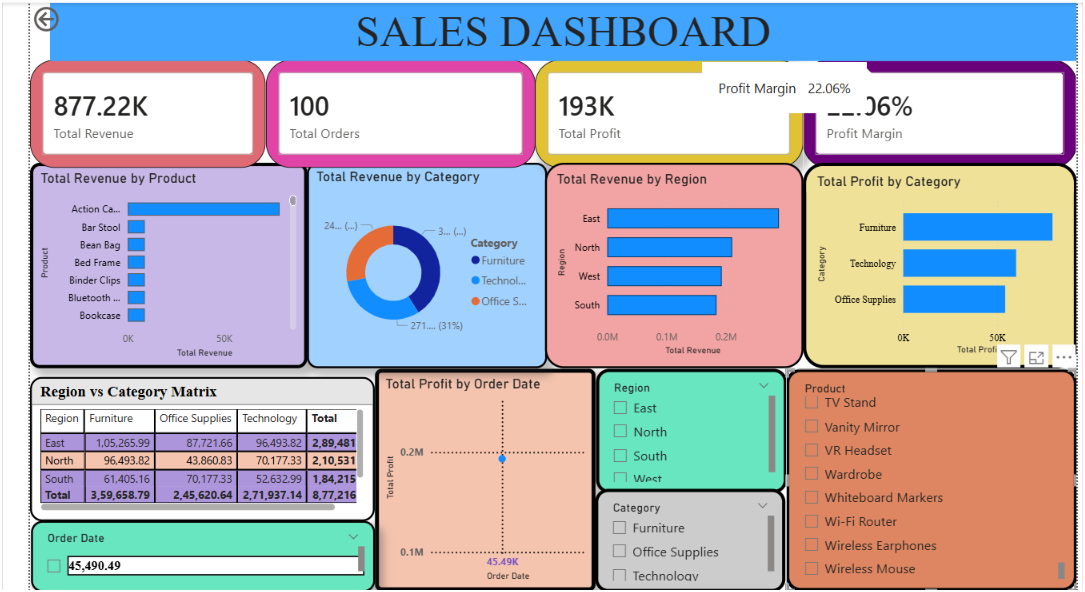

The dashboard page shown, as its layout file describes it:
{"tool":"powerbi","page":{"name":"Syntecxhub_Sales_Dashboard","canvas":[1280,720],"ordinal":0},"visuals":[{"type":"lineChart","fields":{"Category":["Sheet1.Order Date"],"Y":["Sheet1.Total Profit"]},"box":[421.8,447.4,269.5,272.2],"z":0},{"type":"clusteredBarChart","fields":{"Category":["Sheet1.Product"],"Y":["Sheet1.Total Revenue"]},"box":[0,196.2,338.9,251.1],"z":1000},{"type":"donutChart","fields":{"Category":["Sheet1.Category"],"Y":["Sheet1.Total Revenue"]},"box":[338.9,196.2,293.7,251.1],"z":2000},{"type":"cardVisual","fields":{"Data":["Sheet1.Total Revenue"]},"box":[0,70,288.2,131.7],"z":3000},{"type":"cardVisual","fields":{"Data":["Sheet1.Total Orders"]},"box":[288.2,70,329.3,131.7],"z":4000},{"type":"cardVisual","fields":{"Data":["Sheet1.Total Profit"]},"box":[617.5,70,328,131.7],"z":5000},{"type":"cardVisual","fields":{"Data":["Sheet1.Profit Margin"]},"box":[945.5,70,334.8,131.7],"z":6000},{"type":"textbox","box":[24.7,0,1255.6,71.4],"z":7000},{"type":"pivotTable","title":"Region vs Category Matrix","fields":{"Rows":["Sheet1.Region"],"Columns":["Sheet1.Category"],"Values":["Sheet1.Total Revenue"]},"box":[0,456.9,421.8,176.5],"z":8000},{"type":"slicer","fields":{"Values":["Sheet1.Order Date"]},"box":[1.2,633.4,420.7,86.8],"z":9000},{"type":"actionButton","box":[0,0,100,40],"z":10000},{"type":"clusteredBarChart","fields":{"Category":["Sheet1.Region"],"Y":["Sheet1.Total Revenue"]},"box":[629.8,196.2,315.6,251.1],"z":11000},{"type":"barChart","fields":{"Y":["Sheet1.Total Profit"],"Category":["Sheet1.Category"]},"box":[945.5,196.2,334.8,251.1],"z":12000},{"type":"slicer","fields":{"Values":["Sheet1.Region"]},"box":[691.6,447.3,233.3,152.3],"z":13000},{"type":"slicer","fields":{"Values":["Sheet1.Category"]},"box":[691.3,594.3,233.1,126.7],"z":14000},{"type":"slicer","fields":{"Values":["Sheet1.Product"]},"box":[924.5,447.4,355.8,272.2],"z":15000}]}

Visuals, with their boxes in screenshot pixels (x1, y1, x2, y2):
lineChart - Sheet1.Order Date x Sheet1.Total Profit: (374, 364, 593, 585)
clusteredBarChart - Sheet1.Product x Sheet1.Total Revenue: (31, 159, 307, 364)
donutChart - Sheet1.Category x Sheet1.Total Revenue: (307, 159, 545, 364)
cardVisual - Sheet1.Total Revenue: (31, 57, 265, 164)
cardVisual - Sheet1.Total Orders: (265, 57, 533, 164)
cardVisual - Sheet1.Total Profit: (533, 57, 800, 164)
cardVisual - Sheet1.Profit Margin: (800, 57, 1072, 164)
textbox: (51, 0, 1072, 58)
"Region vs Category Matrix" pivotTable: (31, 371, 374, 515)
slicer - Sheet1.Order Date: (32, 515, 374, 585)
actionButton: (31, 0, 112, 33)
clusteredBarChart - Sheet1.Region x Sheet1.Total Revenue: (543, 159, 799, 364)
barChart - Sheet1.Total Profit x Sheet1.Category: (800, 159, 1072, 364)
slicer - Sheet1.Region: (593, 364, 783, 487)
slicer - Sheet1.Category: (593, 483, 782, 586)
slicer - Sheet1.Product: (782, 364, 1072, 585)
